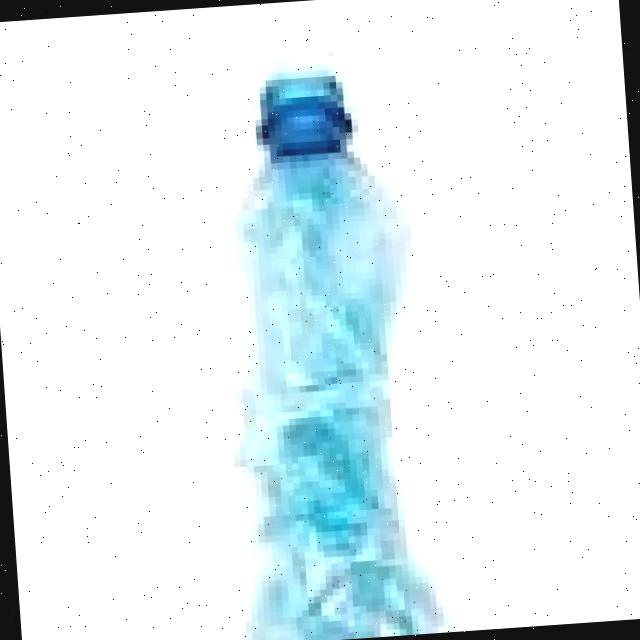bottle: (167, 40, 477, 640)
